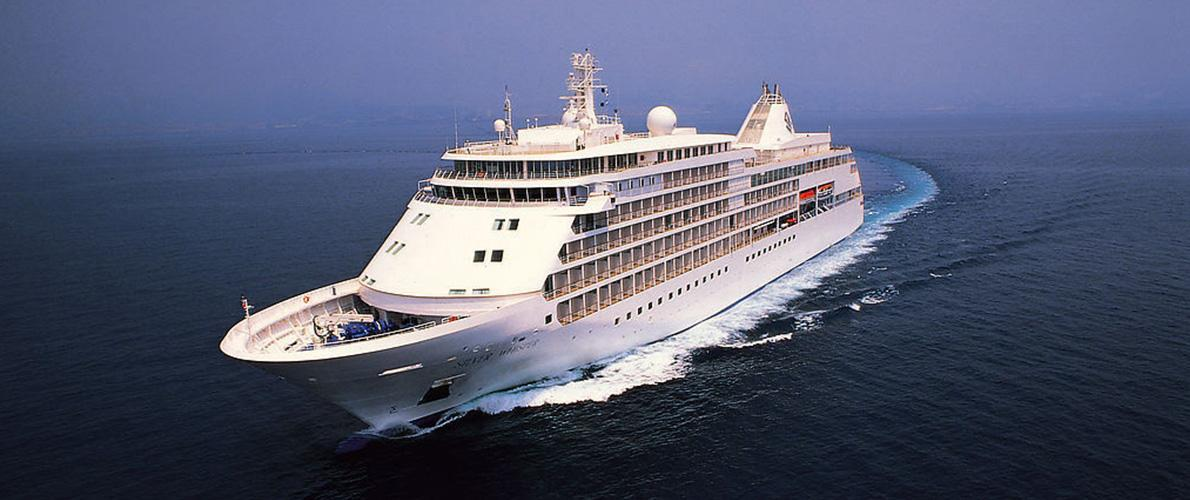youlun: (214, 49, 868, 435)
